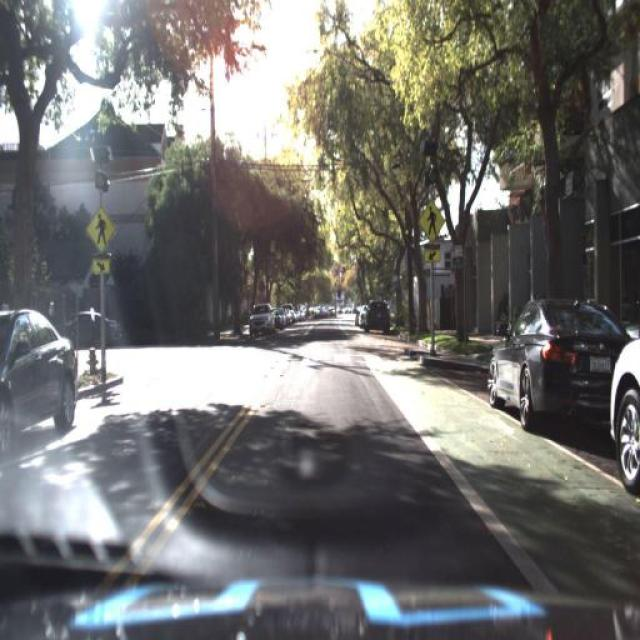car: (488, 292, 636, 428), (491, 290, 630, 431), (0, 306, 80, 463), (605, 314, 640, 496), (61, 305, 127, 353), (244, 298, 275, 339), (361, 296, 391, 332), (363, 294, 389, 335)
